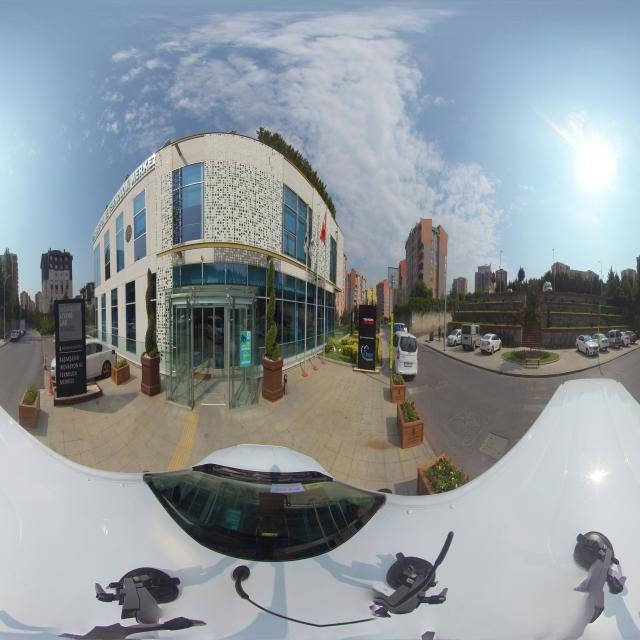SignStore: (92, 151, 155, 244)
